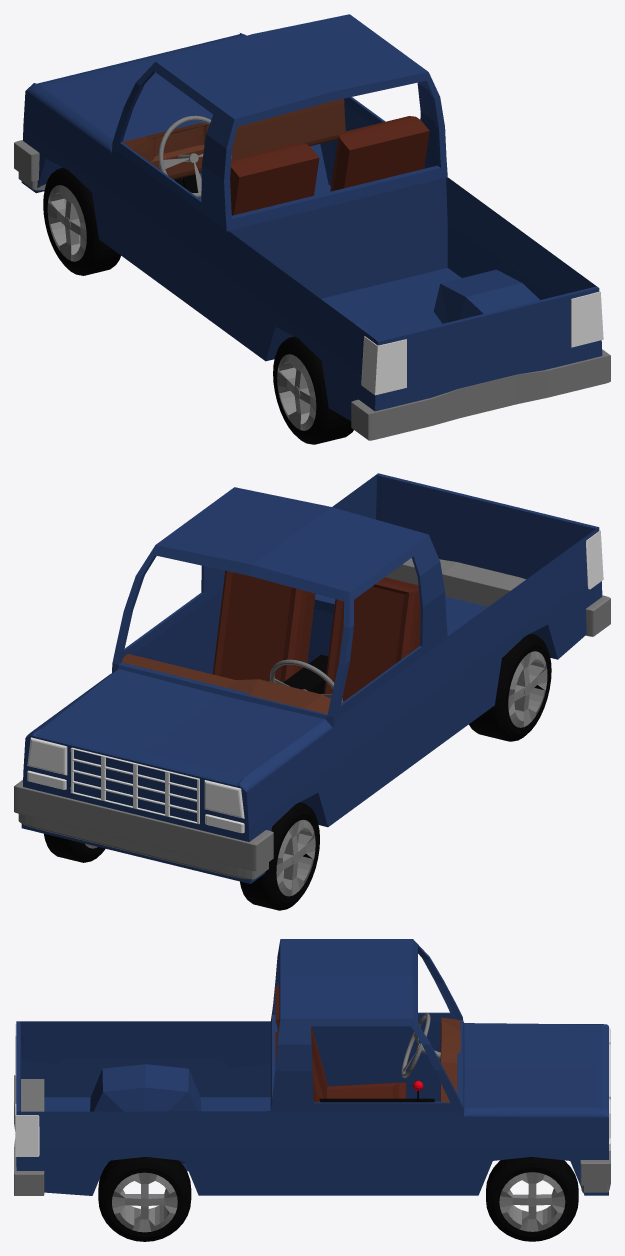
Rendered from Truk 1.fbx.
The picture shows the model from 3 angles, top to bottom: view 1: azimuth 30°, elevation 25°; view 2: azimuth 150°, elevation 25°; view 3: azimuth 270°, elevation 25°; orthographic projection. The views are drawn at different scales.
Parts seen in each view (by area): view 1: Cube, Cube.007, Cube.011, Cube.009, Cylinder.004, Cylinder.003, Cube.013, Cylinder.001, Cube.004; view 2: Cube, Cube.007, Cube.004, Cylinder.004, Cylinder.003, Cube.011, Cube.009, Cube.005, Cube.006, Cube.002, Cylinder.002, Cube.008 (+2 smaller); view 3: Cube, Cylinder.005, Cylinder.002, Cube.007, Cube.011, Cube.009, Cube.013, Cube.004, Cylinder.001, Cube.008.
Part boxes in pixels (box(x1,y1,x2,y2)): Cube: box(21, 14, 602, 420); Cube.007: box(230, 116, 429, 215); Cube.011: box(351, 349, 610, 440); Cube.009: box(122, 98, 345, 179); Cylinder.004: box(273, 336, 353, 444); Cylinder.003: box(43, 167, 120, 275); Cube.013: box(361, 291, 603, 395); Cylinder.001: box(158, 115, 231, 197); Cube.004: box(14, 140, 39, 181); Cube: box(21, 473, 602, 883); Cube.007: box(212, 570, 420, 701); Cube.004: box(14, 780, 273, 871); Cylinder.004: box(469, 633, 551, 741); Cylinder.003: box(240, 802, 319, 910); Cube.011: box(385, 558, 610, 636); Cube.009: box(122, 654, 330, 714); Cube.005: box(18, 814, 268, 879); Cube.006: box(70, 747, 199, 824); Cube.002: box(27, 737, 244, 818); Cylinder.002: box(44, 833, 105, 862); Cube.008: box(283, 654, 328, 693); Cube: box(16, 939, 608, 1195); Cylinder.005: box(98, 1157, 191, 1241); Cylinder.002: box(486, 1157, 578, 1241); Cube.007: box(275, 986, 406, 1102); Cube.011: box(14, 1075, 44, 1195); Cube.009: box(440, 1017, 460, 1102); Cube.013: box(15, 1024, 39, 1156); Cube.004: box(580, 1150, 610, 1185); Cylinder.001: box(401, 1013, 440, 1077); Cube.008: box(319, 1098, 434, 1102).
Bounding box in the file's own units: 405 × 421 × 1029.
